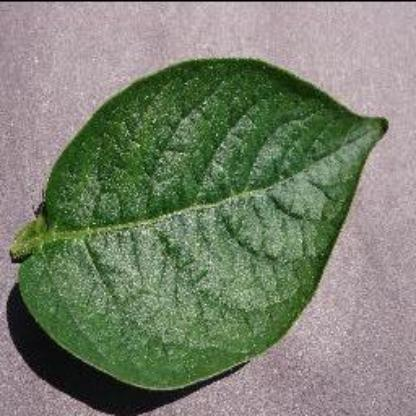Healthy-plant: (11, 54, 387, 392)
